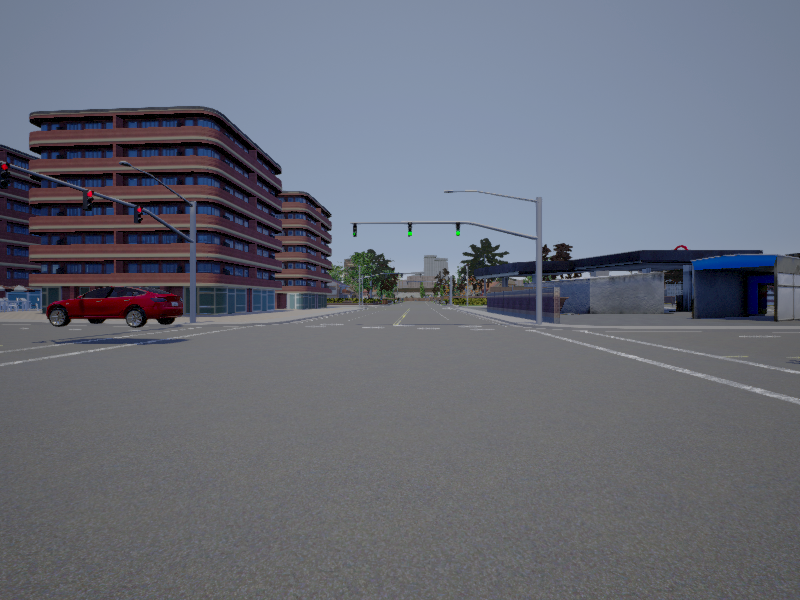Attacker: (45, 288, 183, 326)
